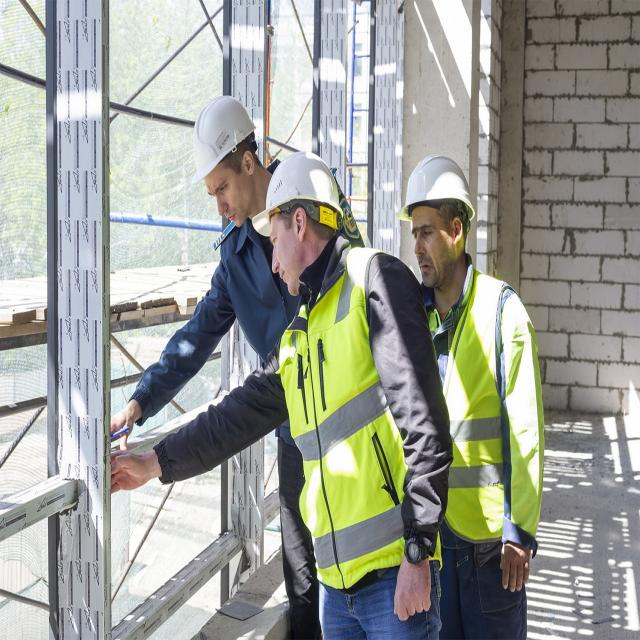Helmet: (253, 151, 343, 246), (395, 155, 477, 241), (190, 96, 260, 188)
Jacket: (287, 255, 401, 570), (429, 270, 512, 535)
